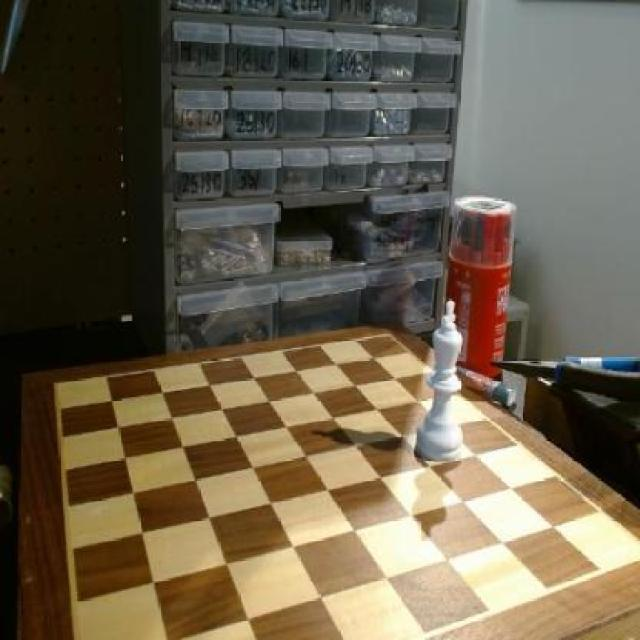white-bishop: (412, 297, 471, 469)
